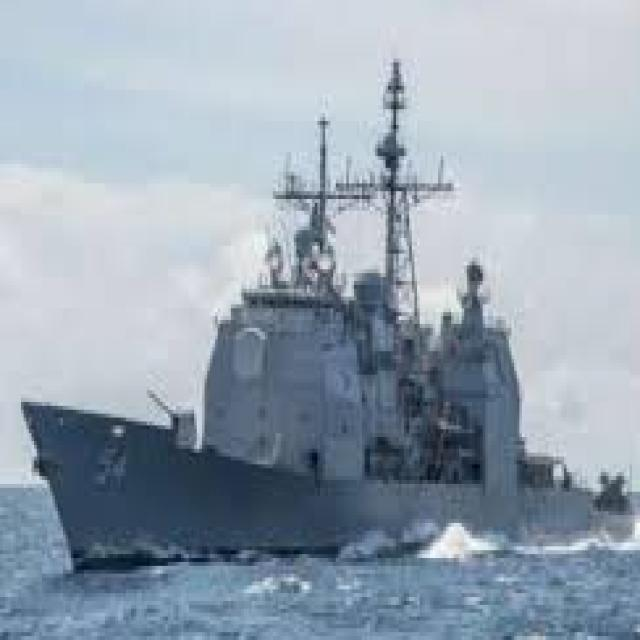navalvessels: (15, 75, 639, 575)
